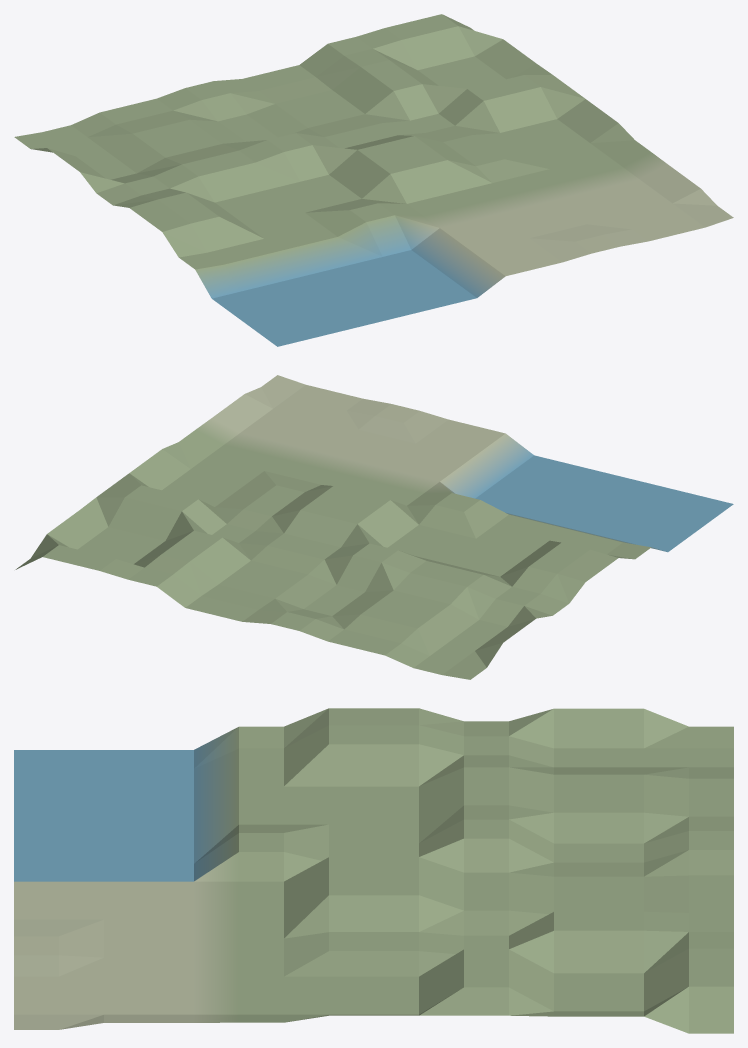
3 renders of one model, top to bottom at view 1: azimuth 30°, elevation 25°; view 2: azimuth 150°, elevation 25°; view 3: azimuth 270°, elevation 25°, orthographic. The views are drawn at different scales.
Bounding box in the file's own units: 32 × 2.38 × 32.
